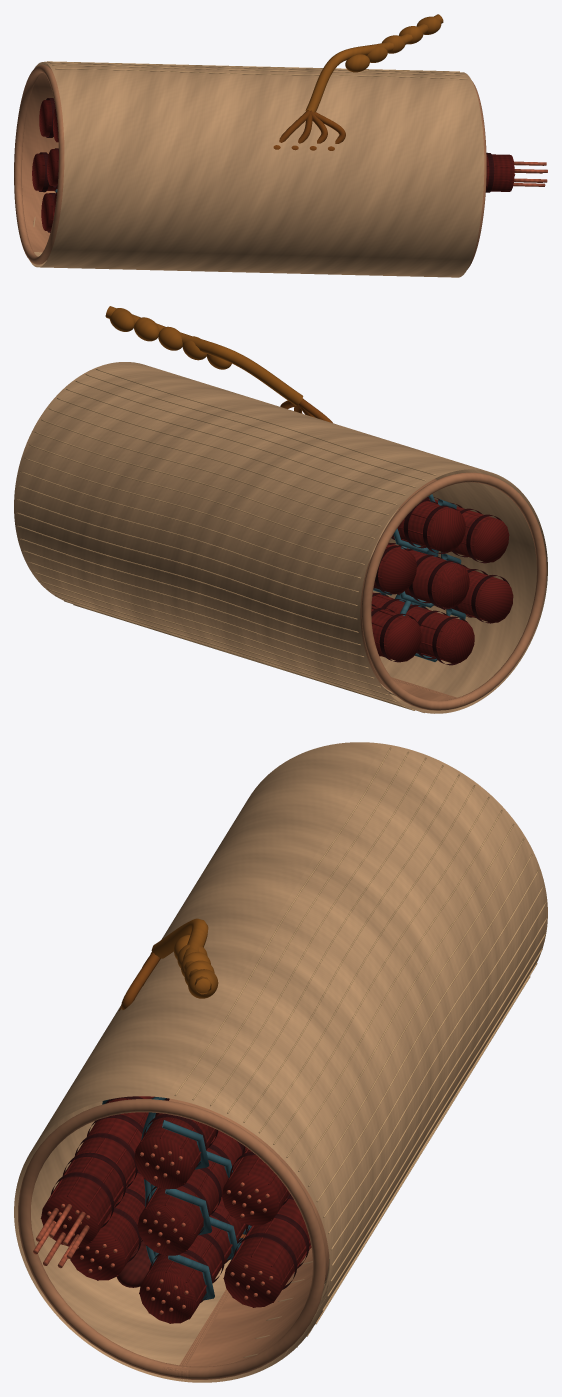
The model's file is muscle-hq.glb.
The picture shows the model from 3 angles, top to bottom: view 1: azimuth 30°, elevation 25°; view 2: azimuth 150°, elevation 25°; view 3: azimuth 270°, elevation 25°; orthographic projection. The views are drawn at different scales.
Parts seen in each view (by area): view 1: muscle_part_10_base_002, muscle_part_10_base_001, muscle_part_09_base_002, muscle_part_09_base_001, muscle_part_11_base_001, muscle_part_01_base_005, muscle_10_collagen_fibril, muscle_10_collagen_fibril.001, muscle_10_collagen_fibril.002, muscle_10_collagen_fibril.003, muscle_part_09_base_003, muscle_part_01_base_006 (+4 smaller); view 2: muscle_part_10_base_001, muscle_part_10_base_002, muscle_part_09_base_002, muscle_part_01_base_001, muscle_part_01_base_002, muscle_part_01_base_003, muscle_part_01_base_005, muscle_part_01_base_004, muscle_part_01_base_006, muscle_part_11_base_001, muscle_part_01_base_007, muscle_part_09_base_001 (+23 smaller); view 3: muscle_part_10_base_001, muscle_part_10_base_002, muscle_part_09_base_003, muscle_part_09_base_001, muscle_part_01_base_005, muscle_part_01_base_006, muscle_part_01_base_002, muscle_part_01_base_001, muscle_part_01_base_004, muscle_part_01_base_003, muscle_part_01_base_007, muscle_part_11_base_001 (+21 smaller).
Boxes of the visible parts, <box> form: muscle_part_10_base_002: <box>29,71,484,277</box>; muscle_part_10_base_001: <box>34,62,471,256</box>; muscle_part_09_base_002: <box>14,64,64,264</box>; muscle_part_09_base_001: <box>22,73,58,252</box>; muscle_part_11_base_001: <box>305,14,443,112</box>; muscle_part_01_base_005: <box>486,154,514,191</box>; muscle_10_collagen_fibril: <box>55,68,467,79</box>; muscle_10_collagen_fibril.001: <box>52,64,465,75</box>; muscle_10_collagen_fibril.002: <box>49,62,462,73</box>; muscle_10_collagen_fibril.003: <box>47,61,459,72</box>; muscle_part_09_base_003: <box>467,81,486,269</box>; muscle_part_01_base_006: <box>32,153,57,191</box>; muscle_part_10_base_001: <box>14,367,463,713</box>; muscle_part_10_base_002: <box>98,362,547,708</box>; muscle_part_09_base_002: <box>361,472,546,710</box>; muscle_part_01_base_001: <box>371,592,474,663</box>; muscle_part_01_base_002: <box>391,544,469,607</box>; muscle_part_01_base_003: <box>392,501,465,552</box>; muscle_part_01_base_005: <box>428,499,509,562</box>; muscle_part_01_base_004: <box>451,568,513,622</box>; muscle_part_01_base_006: <box>371,606,421,662</box>; muscle_part_11_base_001: <box>105,306,303,405</box>; muscle_part_01_base_007: <box>373,544,416,594</box>; muscle_part_09_base_001: <box>360,479,456,700</box>; muscle_part_10_base_001: <box>166,744,547,1382</box>; muscle_part_10_base_002: <box>14,742,383,1380</box>; muscle_part_09_base_003: <box>18,1099,325,1379</box>; muscle_part_09_base_001: <box>169,1098,329,1366</box>; muscle_part_01_base_005: <box>41,1096,153,1246</box>; muscle_part_01_base_006: <box>224,1193,310,1307</box>; muscle_part_01_base_002: <box>137,1130,246,1255</box>; muscle_part_01_base_001: <box>139,1197,246,1323</box>; muscle_part_01_base_004: <box>70,1172,145,1280</box>; muscle_part_01_base_003: <box>134,1100,216,1189</box>; muscle_part_01_base_007: <box>222,1148,289,1225</box>; muscle_part_11_base_001: <box>151,918,211,994</box>.
Size of the model in its own units: 6.75 by 3.68 by 4.43.
13 materials, 13 textured.
